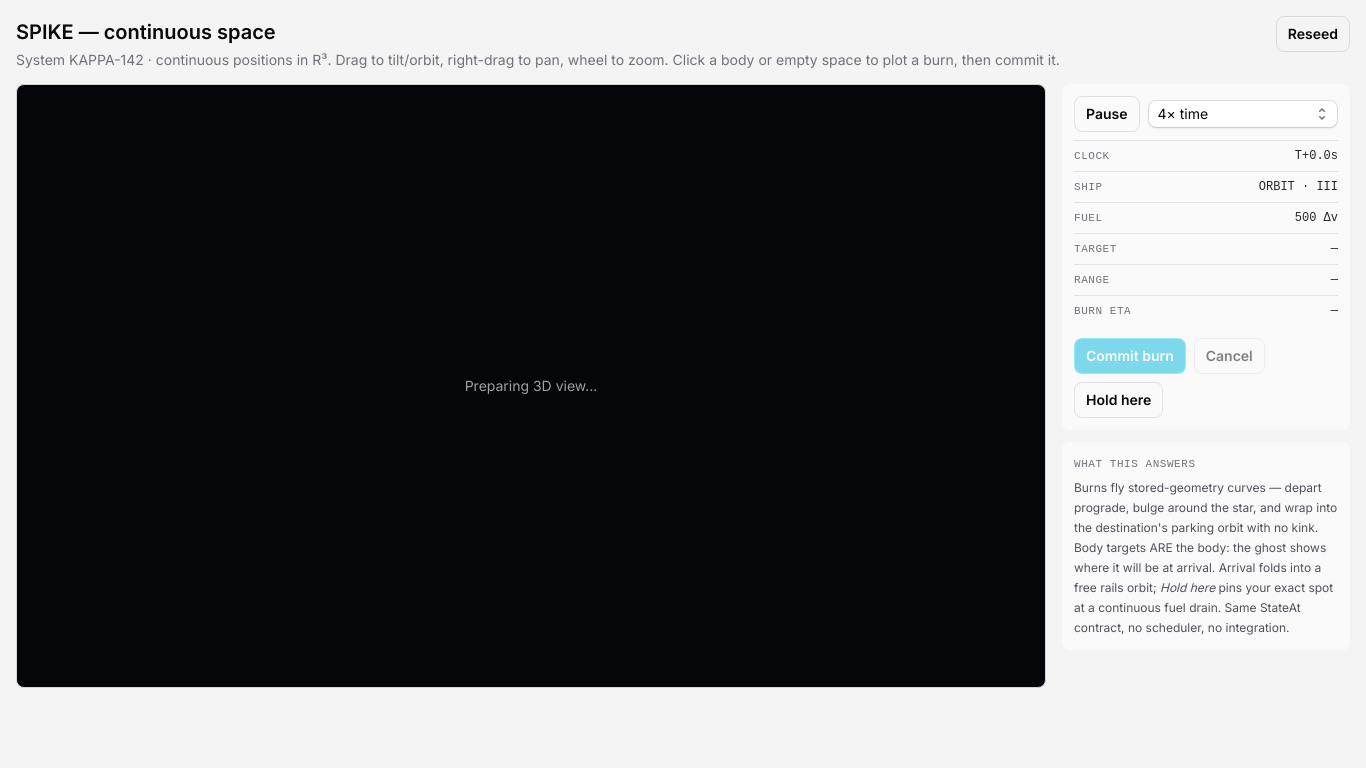
it: continuous-space spike page › drives the time controls
Select "16× time" in the dropdown with test id "ctl-speed" at [1243, 114], box [1148,100,1338,128]
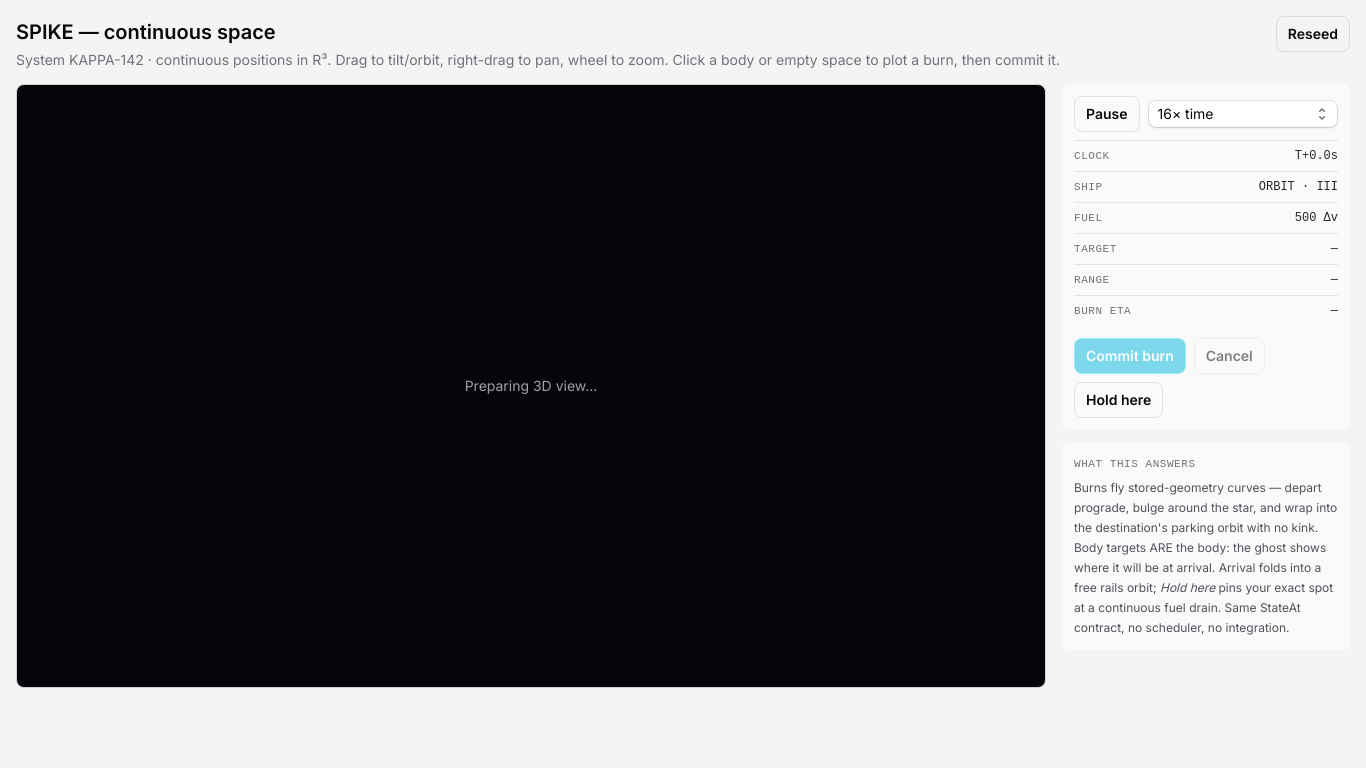
Click the button with test id "ctl-pause" at [1107, 114], box [1074,96,1140,132]
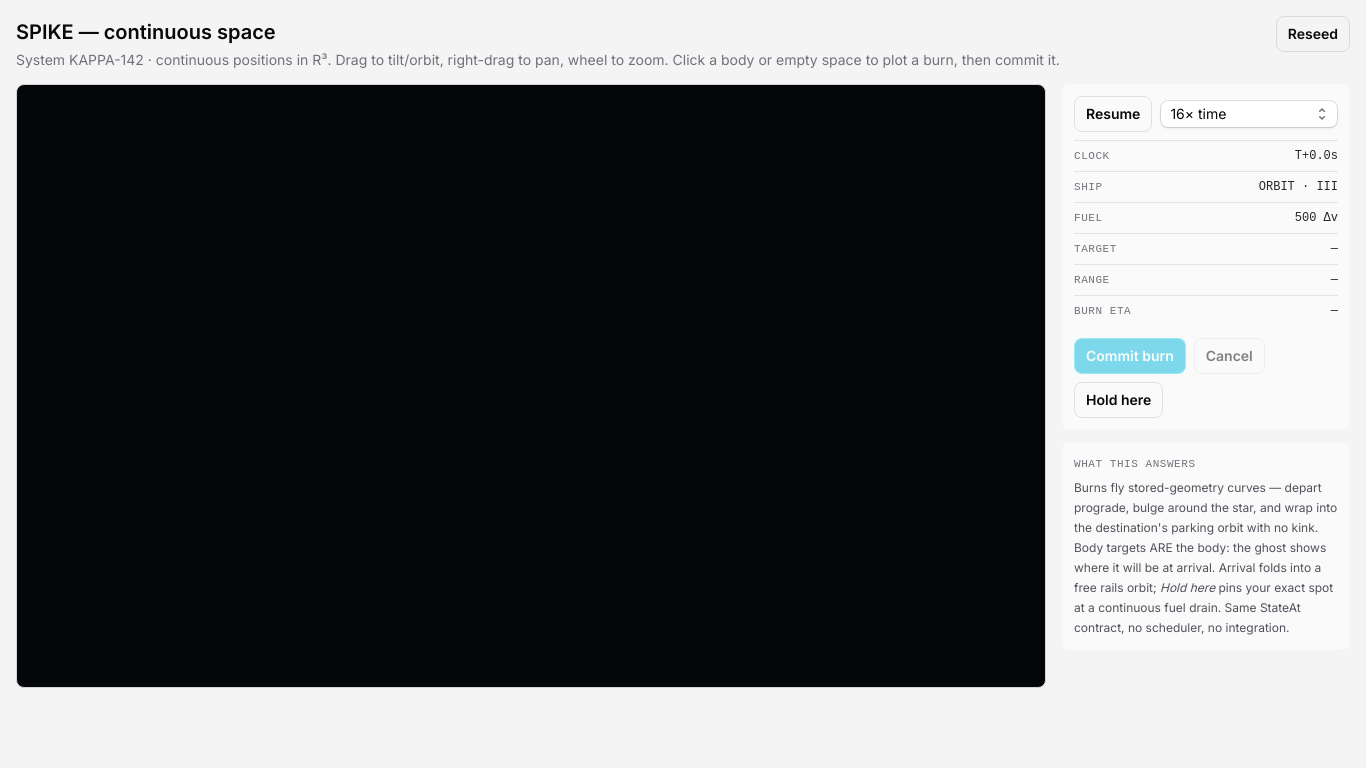
Expected: the button with test id "ctl-pause" reads "Resume", [1074,96,1152,132]
